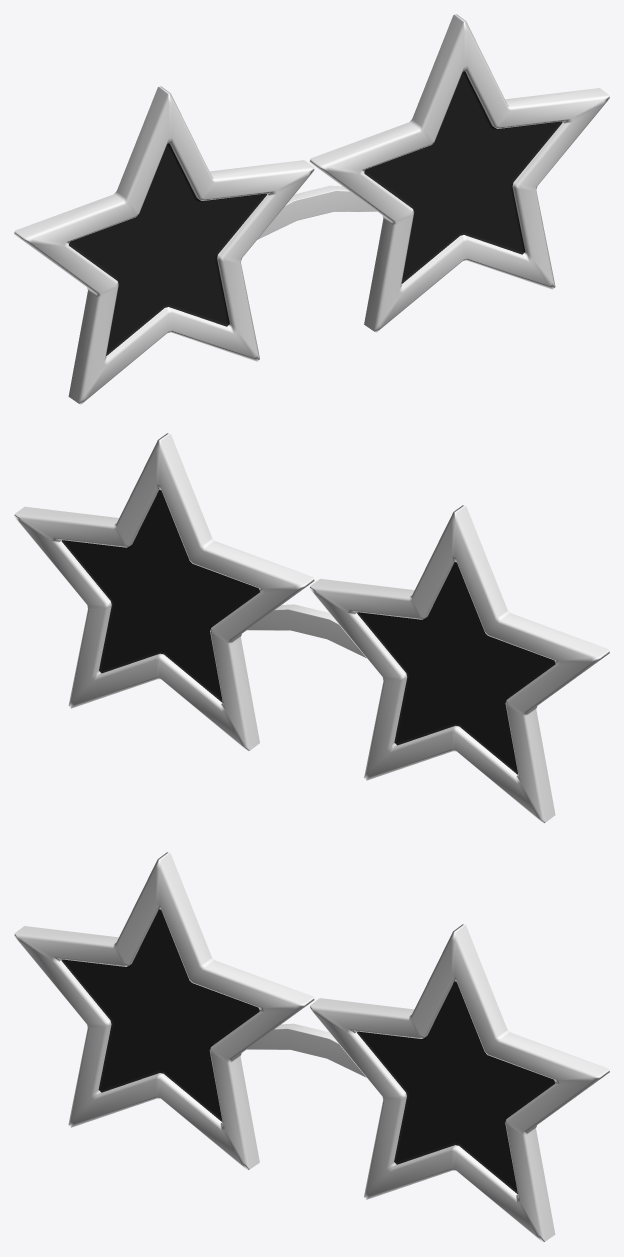
The model's file is Glasses_023.glb.
3 views of the same model, one above another, from view 1: azimuth 30°, elevation 25°; view 2: azimuth 150°, elevation 25°; view 3: azimuth 330°, elevation 25° (orthographic).
Visible parts, largest first — view 1: Glasses_023; view 2: Glasses_023; view 3: Glasses_023.
Part boxes in pixels (box(x1,y1,x2,y2)): Glasses_023: box(14, 14, 609, 404); Glasses_023: box(14, 433, 609, 823); Glasses_023: box(14, 852, 609, 1242).
Size of the model in its own units: 0.3469 by 0.1638 by 0.0126.
1 material, 1 textured.
